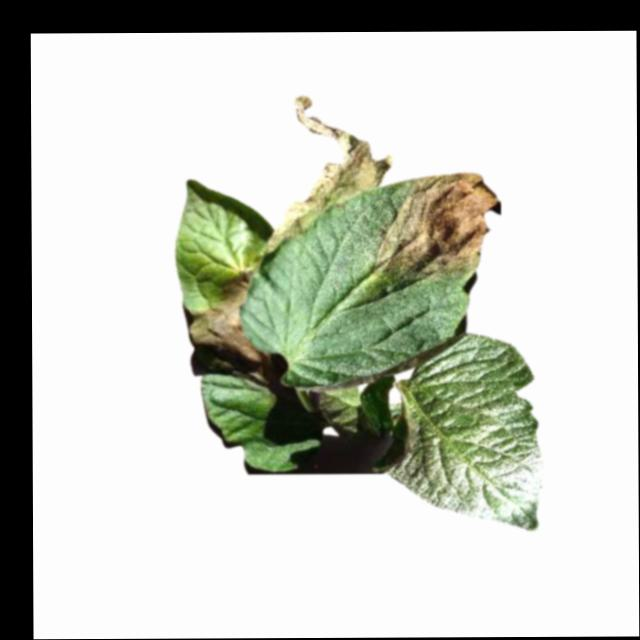Late_blight: (265, 94, 390, 255), (373, 172, 505, 281), (189, 267, 279, 384)
healthy: (385, 332, 547, 533)
